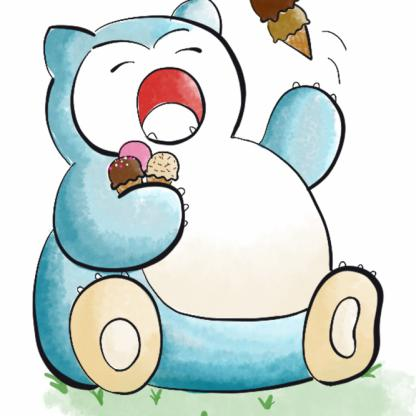Snorlax: (22, 1, 388, 403)
